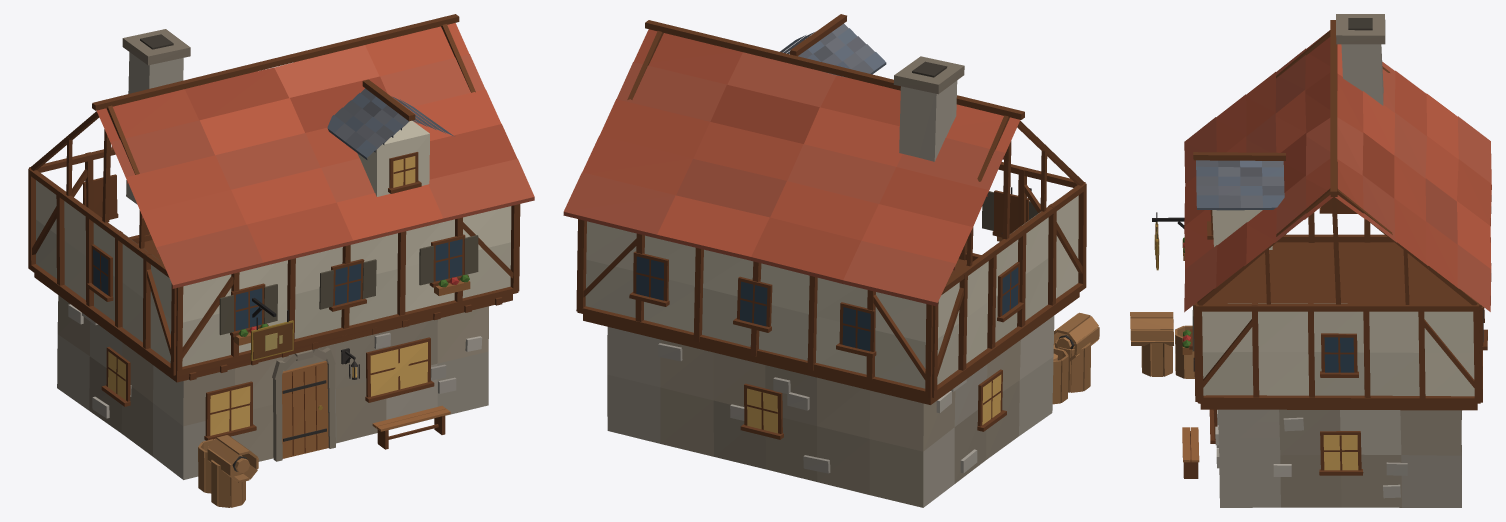
The model's file is tavern.glb.
3 views of the same model, side by side, from view 1: azimuth 30°, elevation 25°; view 2: azimuth 150°, elevation 25°; view 3: azimuth 270°, elevation 25° (orthographic). The views are drawn at different scales.
Parts seen in each view (by area): view 1: buildings/tavern; view 2: buildings/tavern; view 3: buildings/tavern.
Boxes of the visible parts, left/top/right/bottom form: buildings/tavern: left=28, top=14, right=534, bottom=507; buildings/tavern: left=563, top=14, right=1099, bottom=507; buildings/tavern: left=1130, top=14, right=1491, bottom=507.
Size of the model in its own units: 8.38 by 8.26 by 7.46.
